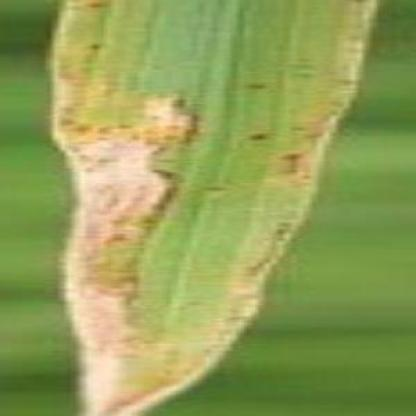Blight: (37, 95, 219, 416)
